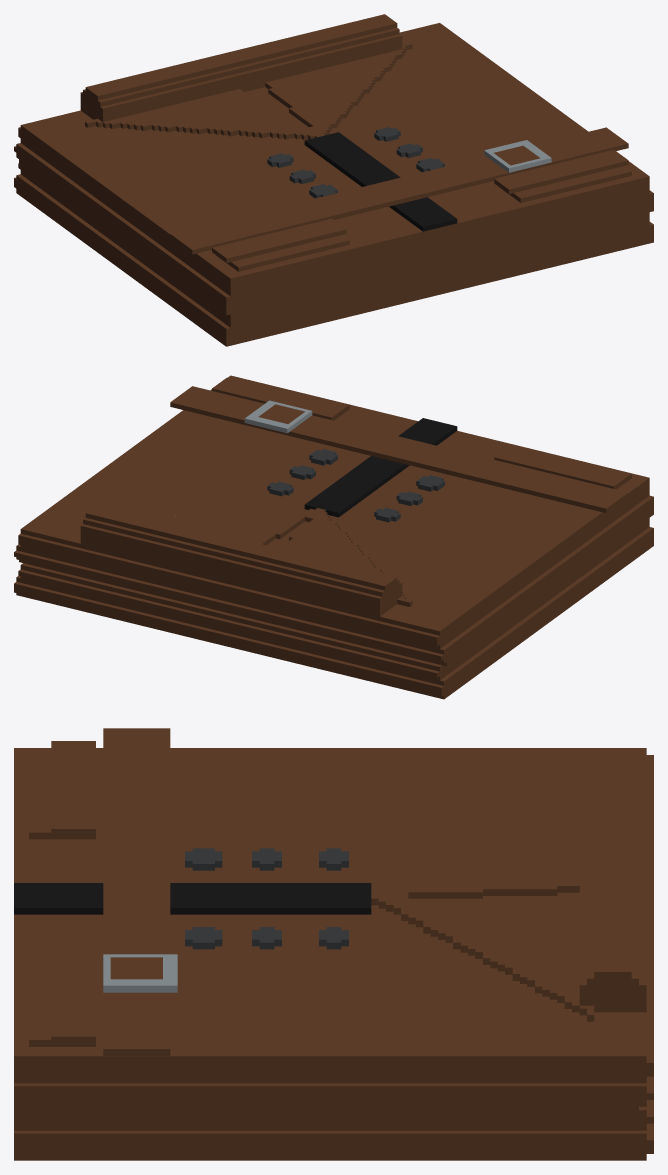
File: trenchcoat_leather.glb
The picture shows the model from 3 angles, top to bottom: view 1: azimuth 30°, elevation 25°; view 2: azimuth 150°, elevation 25°; view 3: azimuth 270°, elevation 25°; orthographic projection. The views are drawn at different scales.
Visible parts, largest first — view 1: trenchcoat_leather:compound; view 2: trenchcoat_leather:compound; view 3: trenchcoat_leather:compound.
Part boxes in pixels (x1,y1,x2,y2): trenchcoat_leather:compound: (14,14,653,346); trenchcoat_leather:compound: (14,375,653,699); trenchcoat_leather:compound: (14,728,653,1160).
Size of the model in its own units: 0.408 by 0.084 by 0.344.
